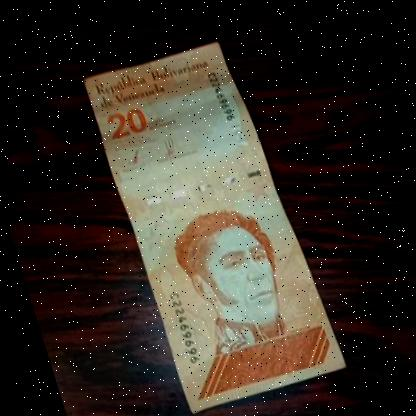twenty-front-vef: (77, 29, 348, 416)
